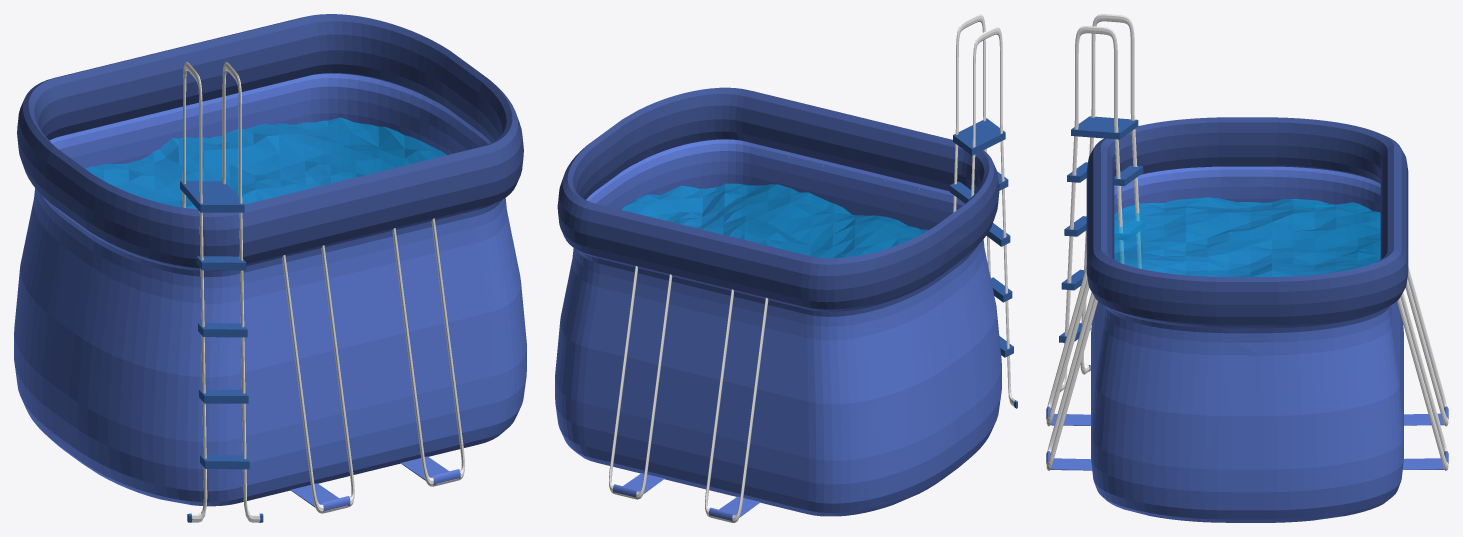
The model's file is sh-scopia-rectangle-swimming-pool.glb.
3 renders of one model, left to right at view 1: azimuth 30°, elevation 25°; view 2: azimuth 150°, elevation 25°; view 3: azimuth 270°, elevation 25°, orthographic. The views are drawn at different scales.
Parts seen in each view (by area): view 1: Cylinder, Torus.002, water_Plane.001, BezierCurve.004_Mesh.004; view 2: Cylinder, Torus.002, water_Plane.001, BezierCurve.004_Mesh.004; view 3: Cylinder, Torus.002, water_Plane.001, BezierCurve.004_Mesh.004.
Part boxes in pixels (bbox=[...]): Cylinder: bbox=[14, 73, 526, 511]; Torus.002: bbox=[17, 14, 523, 268]; water_Plane.001: bbox=[34, 117, 446, 209]; BezierCurve.004_Mesh.004: bbox=[108, 62, 465, 522]; Cylinder: bbox=[555, 139, 1001, 521]; Torus.002: bbox=[557, 87, 999, 310]; water_Plane.001: bbox=[621, 183, 984, 258]; BezierCurve.004_Mesh.004: bbox=[609, 14, 1017, 522]; Cylinder: bbox=[1046, 166, 1448, 522]; Torus.002: bbox=[1086, 117, 1408, 326]; water_Plane.001: bbox=[1114, 197, 1380, 276]; BezierCurve.004_Mesh.004: bbox=[1046, 14, 1448, 470].
Size of the model in its own units: 1 by 1 by 1.
